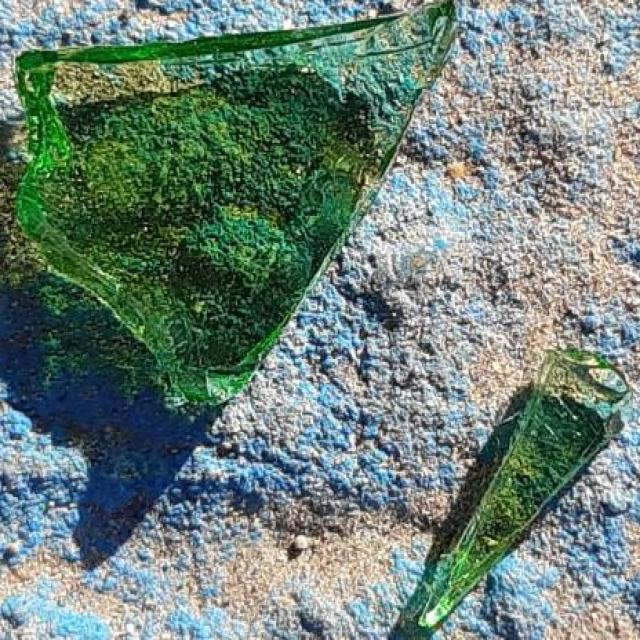Dry: (20, 48, 238, 276), (240, 32, 355, 233), (146, 256, 252, 392), (516, 368, 616, 482), (358, 8, 418, 140), (427, 516, 495, 632), (240, 207, 317, 308), (493, 455, 555, 525), (418, 0, 455, 65)
